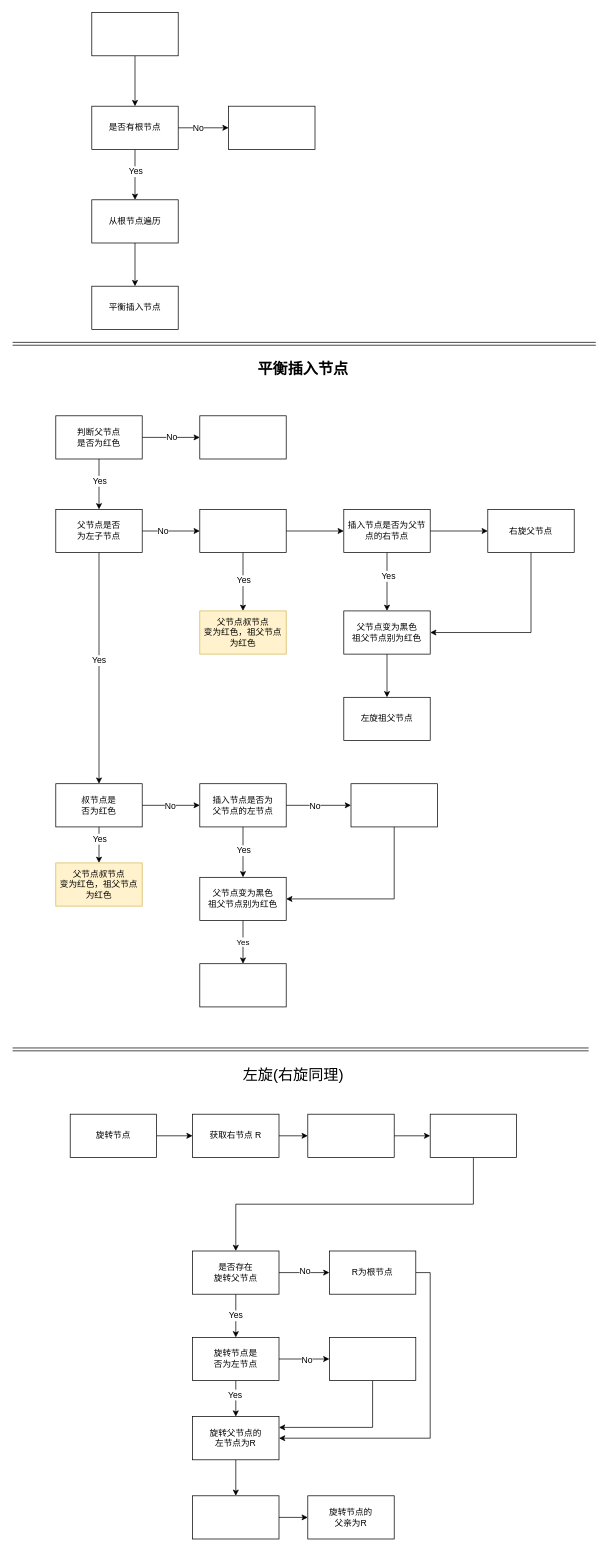
The diagram is 608 pixels wide and 1552 high, and some of its shapes have lost their labels. Each missing label, with the centre of its shape:
"R的左节点为 旋转节点" goes at pixel 235 1517.
"R的左节点的父亲 设置为旋转节点" goes at pixel 350 1135.
"R的父亲设置为 旋转节点的父亲" goes at pixel 473 1135.
"不作处理" goes at pixel 242 437.
"叔节点是否为红色" goes at pixel 242 531.
"右转祖父节点" goes at pixel 242 985.
"左旋父节点" goes at pixel 393 805.
"旋转父节点的 右节点为R" goes at pixel 372 1359.
"设置为黑色 变为根节点" goes at pixel 271 127.
"输入Value" goes at pixel 134 34.
